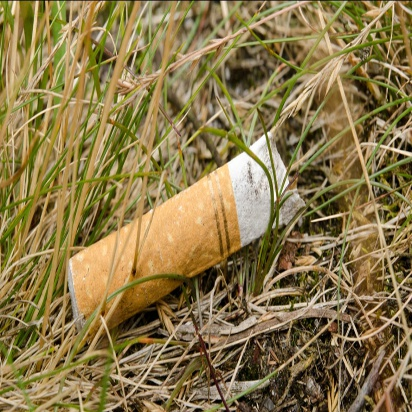cigarette: (60, 126, 308, 335)
